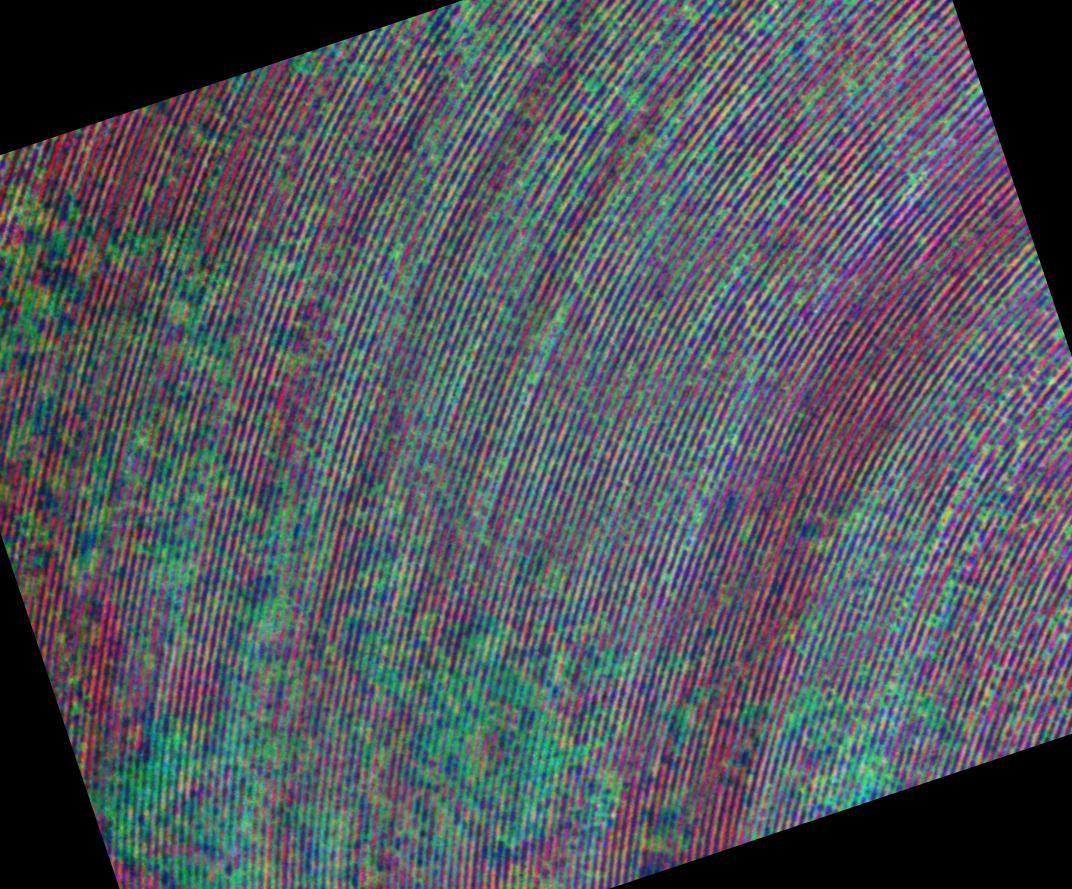dc: (375, 571, 619, 858), (115, 709, 363, 887), (122, 431, 280, 598), (139, 214, 251, 394), (770, 675, 894, 800)
